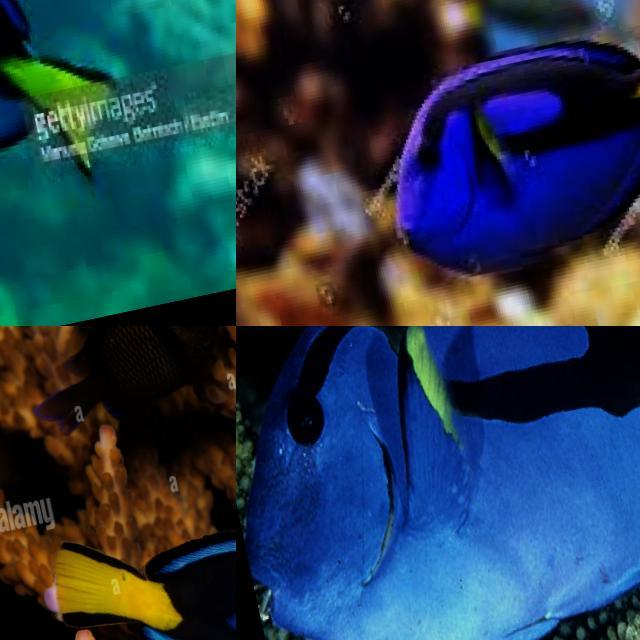BlueTang: (236, 326, 640, 640), (346, 0, 640, 325), (0, 0, 205, 264), (16, 415, 236, 640)
